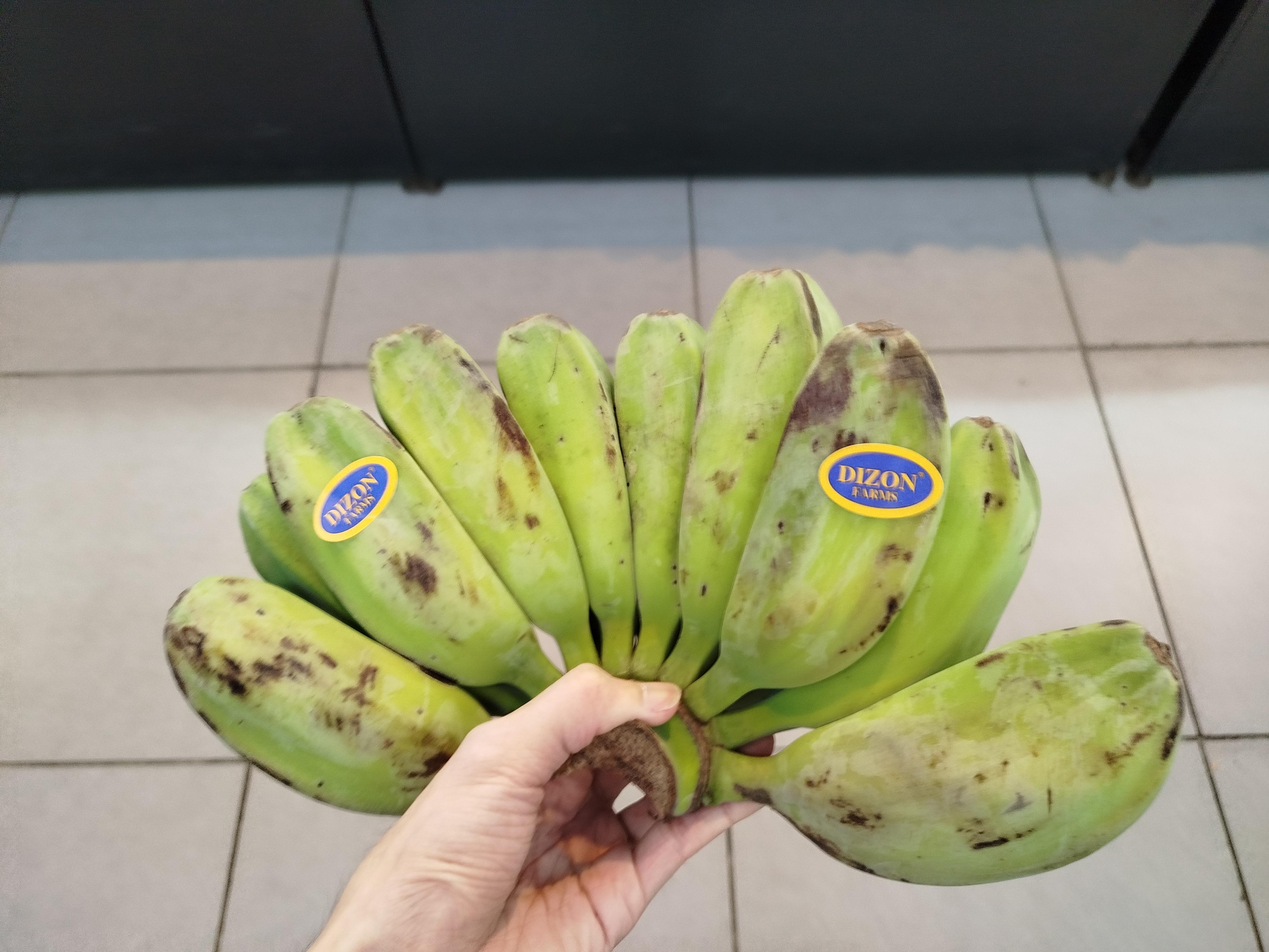underripe: (163, 269, 1179, 885)
